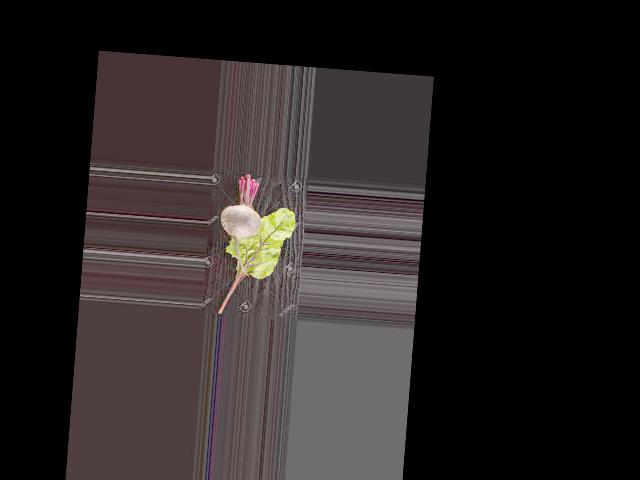beet: (215, 171, 264, 276)
